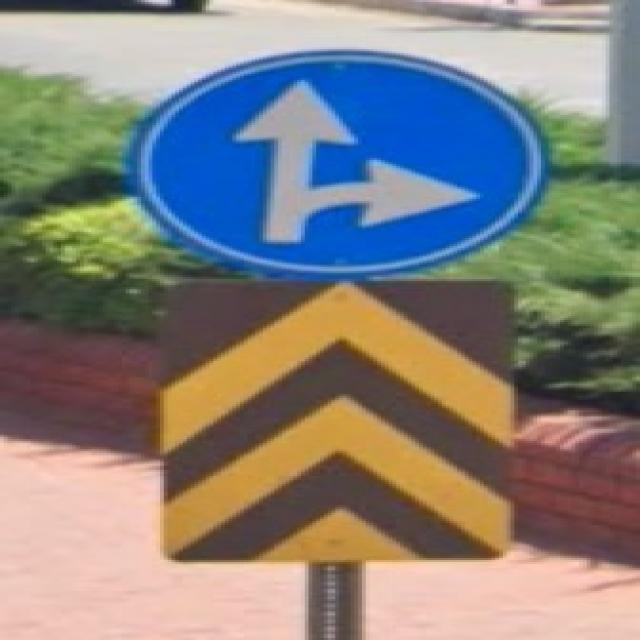Straight or Right: (129, 52, 540, 276)
